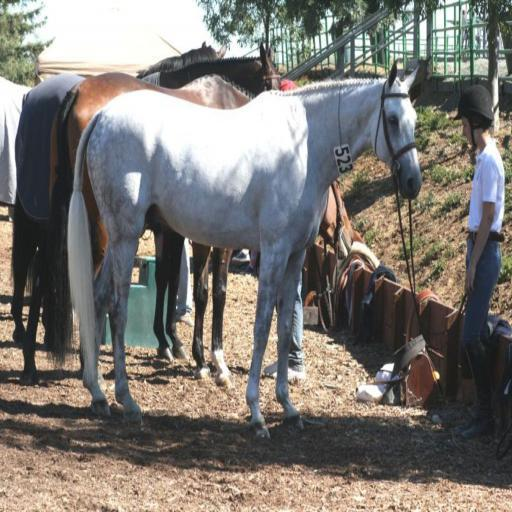horse: (0, 39, 423, 443)
